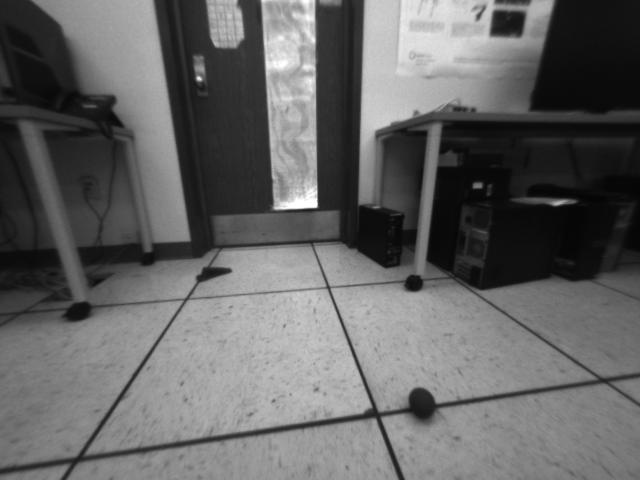dogtoy: (404, 382, 442, 422)
